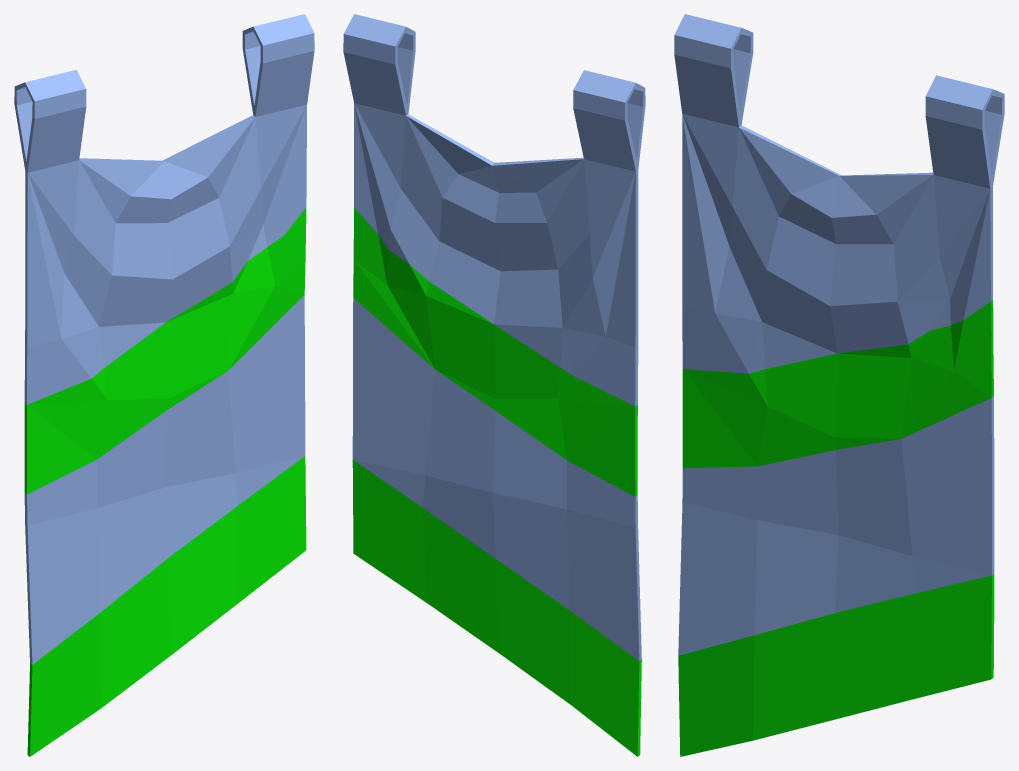
The model's file is SM_Flag_Banner_Small_B_Fantasy.fbx.
3 renders of one model, left to right at view 1: azimuth 30°, elevation 25°; view 2: azimuth 150°, elevation 25°; view 3: azimuth 330°, elevation 25°, orthographic. The views are drawn at different scales.
Visible parts, largest first — view 1: flag-banner-small-b-fantasy; view 2: flag-banner-small-b-fantasy; view 3: flag-banner-small-b-fantasy.
Part boxes in pixels (box(x1,y1,x2,y2)): flag-banner-small-b-fantasy: box(14, 14, 314, 756); flag-banner-small-b-fantasy: box(343, 14, 645, 756); flag-banner-small-b-fantasy: box(674, 14, 1004, 756).
Size of the model in its own units: 0.6581 by 1.51 by 0.0831.
